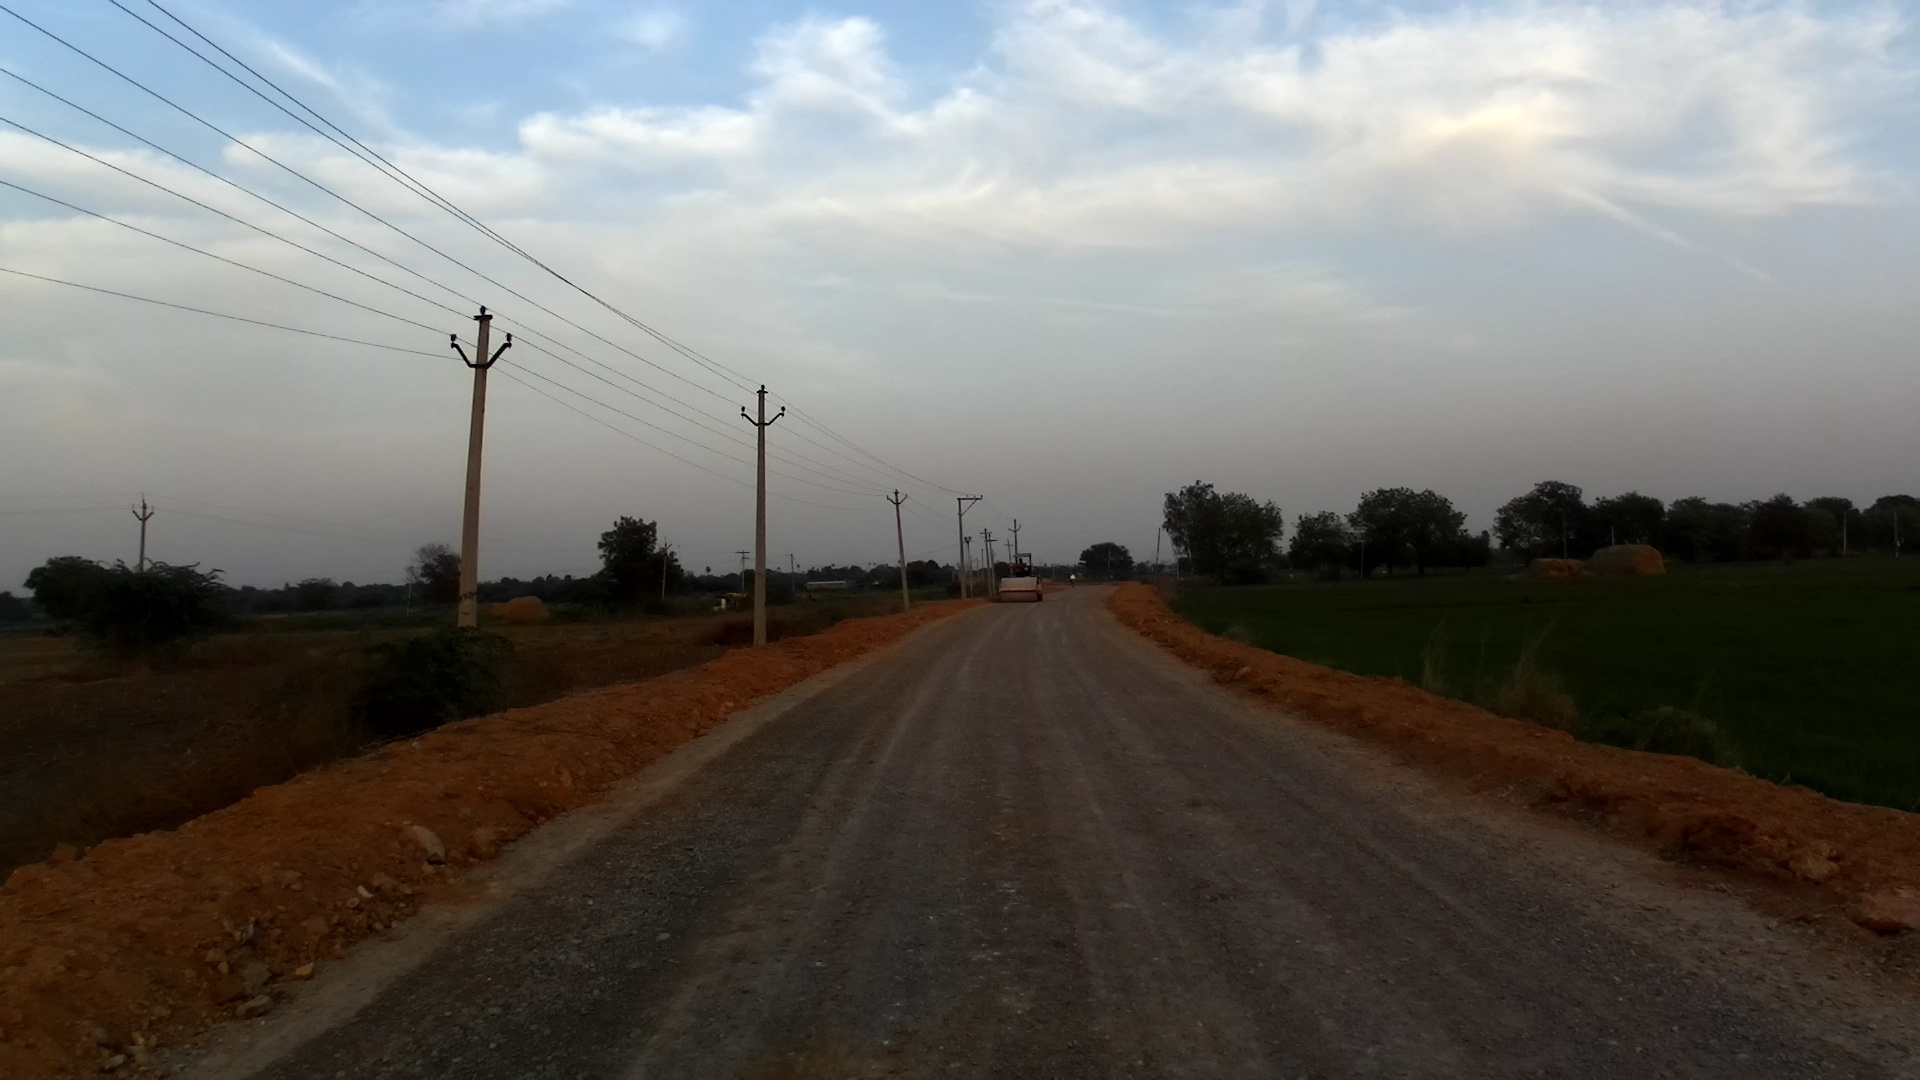car: (995, 572, 1046, 606)
person: (1065, 570, 1080, 588)
